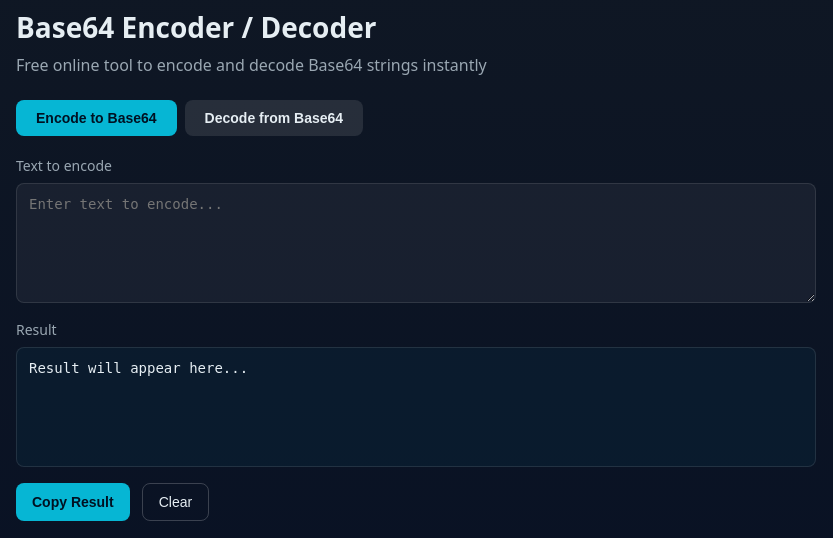
Test: Base64Tool › switches to decode mode
This screenshot has width=833, height=538.
Click the button "Decode from Base64" at [274, 118], box x1=185 y1=100 x2=363 y2=136
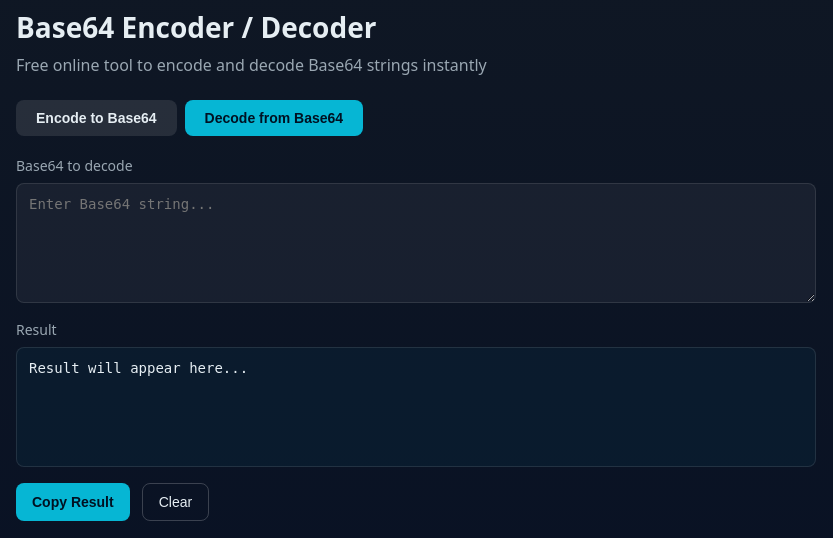
Result: the text box with placeholder "Enter Base64 string..." is shown at x1=16 y1=183 x2=816 y2=303
